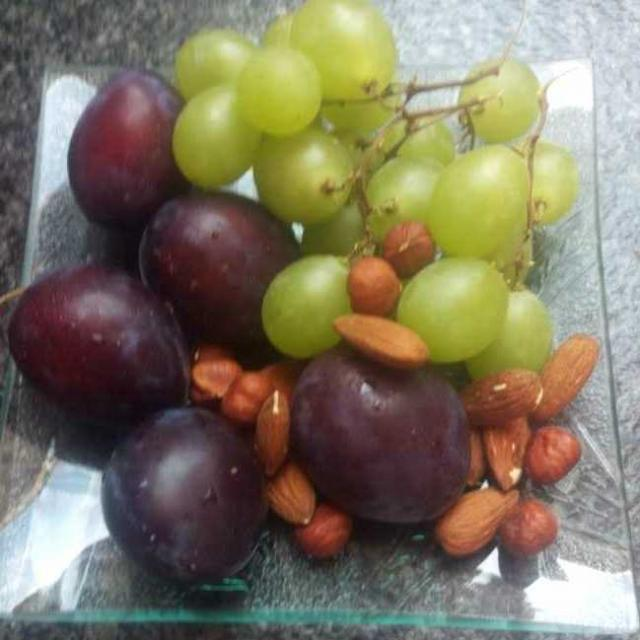grapes: (145, 19, 580, 371)
mixed-nuts: (177, 211, 612, 578)
plums: (12, 69, 481, 610)
